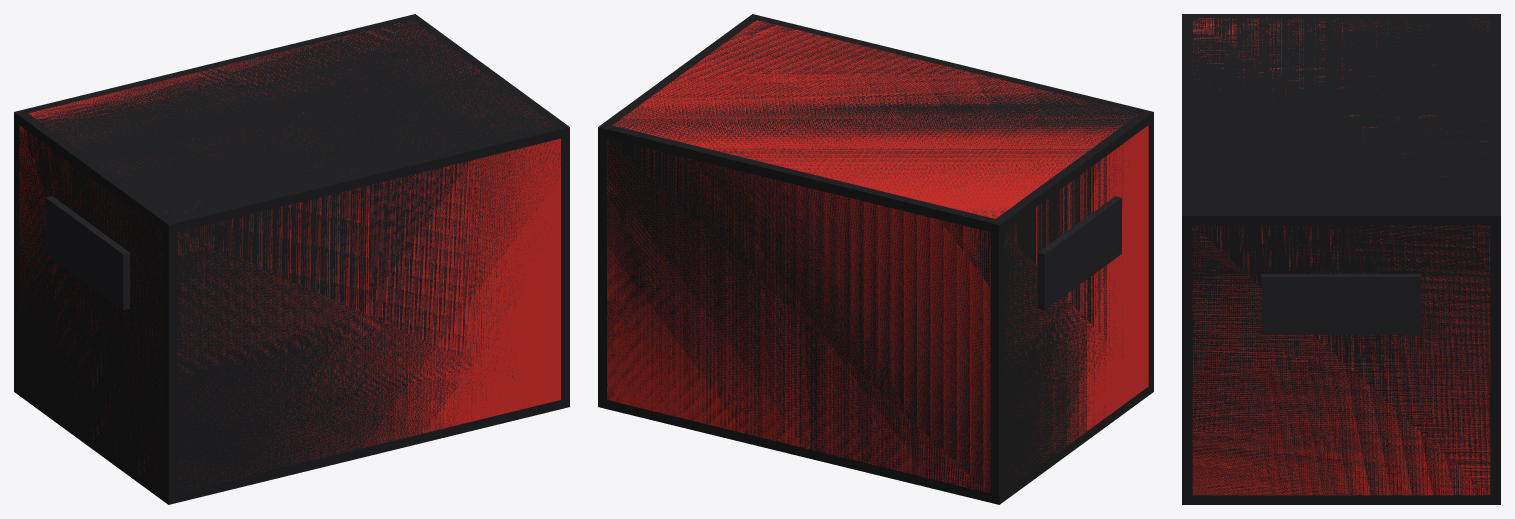
The model's file is env_crate.fbx.
The picture shows the model from 3 angles, left to right: view 1: azimuth 30°, elevation 25°; view 2: azimuth 150°, elevation 25°; view 3: azimuth 270°, elevation 25°; orthographic projection. The views are drawn at different scales.
Visible parts, largest first — view 1: COL_env_crate, env_crate_geo; view 2: COL_env_crate, env_crate_geo; view 3: COL_env_crate, env_crate_geo.
Part boxes in pixels (bbox=[...]): COL_env_crate: bbox=[14, 14, 569, 504]; env_crate_geo: bbox=[19, 21, 560, 486]; COL_env_crate: bbox=[598, 14, 1153, 504]; env_crate_geo: bbox=[607, 20, 1148, 492]; COL_env_crate: bbox=[1182, 14, 1500, 504]; env_crate_geo: bbox=[1192, 18, 1490, 495].
Size of the model in its own units: 0.93 by 0.6 by 0.6.
